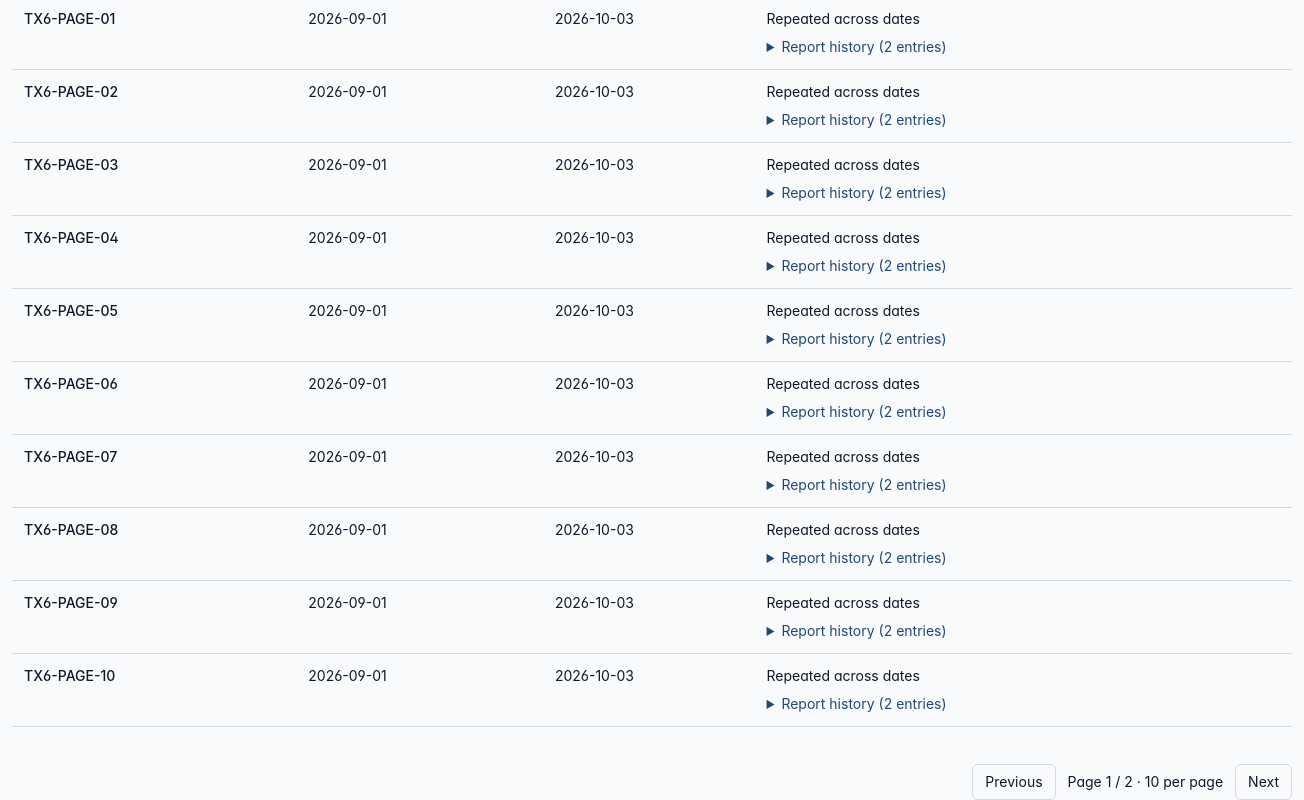
DailyReportAuditPanel › shows ten records per page and returns to page one when filters change
(page scrolled)
Expected: the text "TX6-PAGE-10" is shown, [12,654,296,726]
Expected: the text "TX6-PAGE-11" is not shown
Click the button "Next" at (1264,782), box [1235,764,1292,799]
(page scrolled)
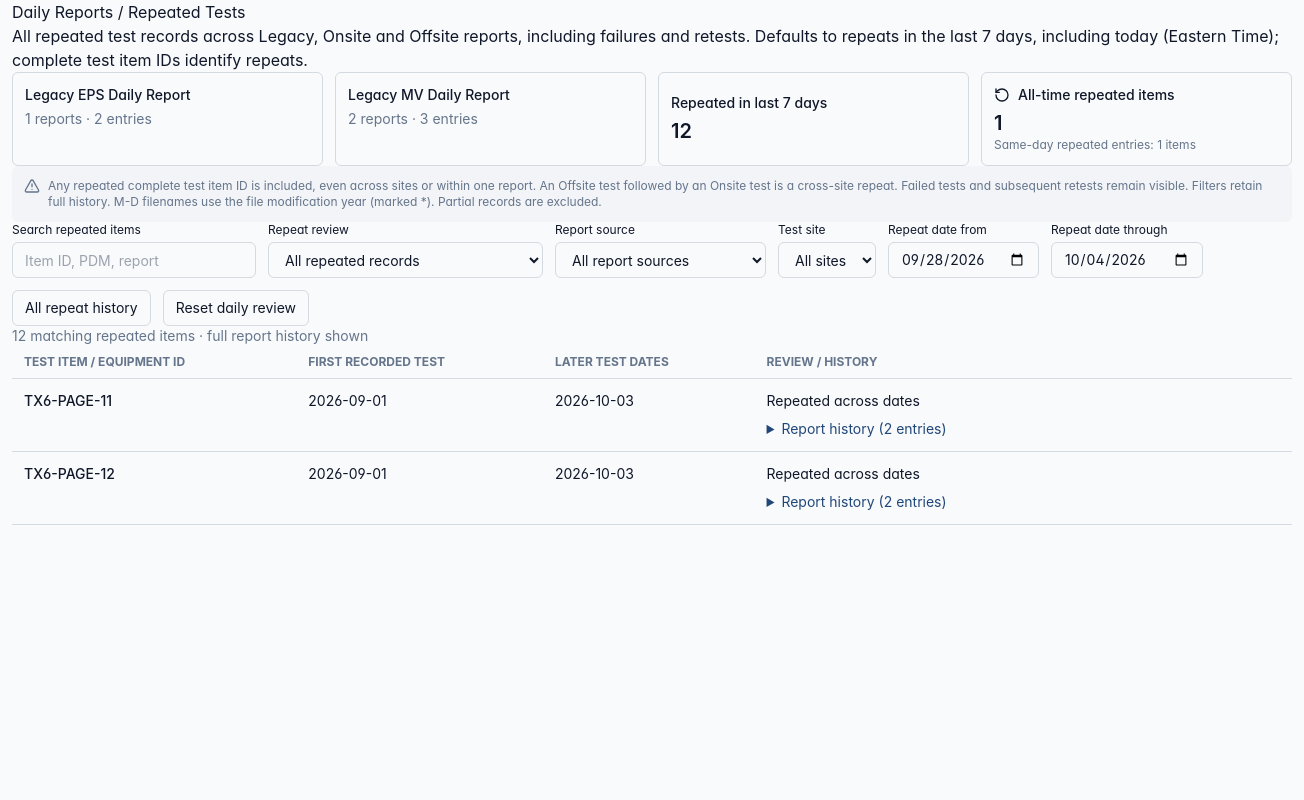
Expected: the number of rows is 3, [12,346,1292,378]; [12,378,1292,452]; [12,452,1292,524]
Now the text "TX6-PAGE-11" is shown, box [12,378,296,452]
Now the text "TX6-PAGE-12" is shown, box [12,452,296,524]
Type "TX6-PAGE-01" into the field labelled "Search repeated items" at (134,260), box [12,242,256,278]
(page scrolled)
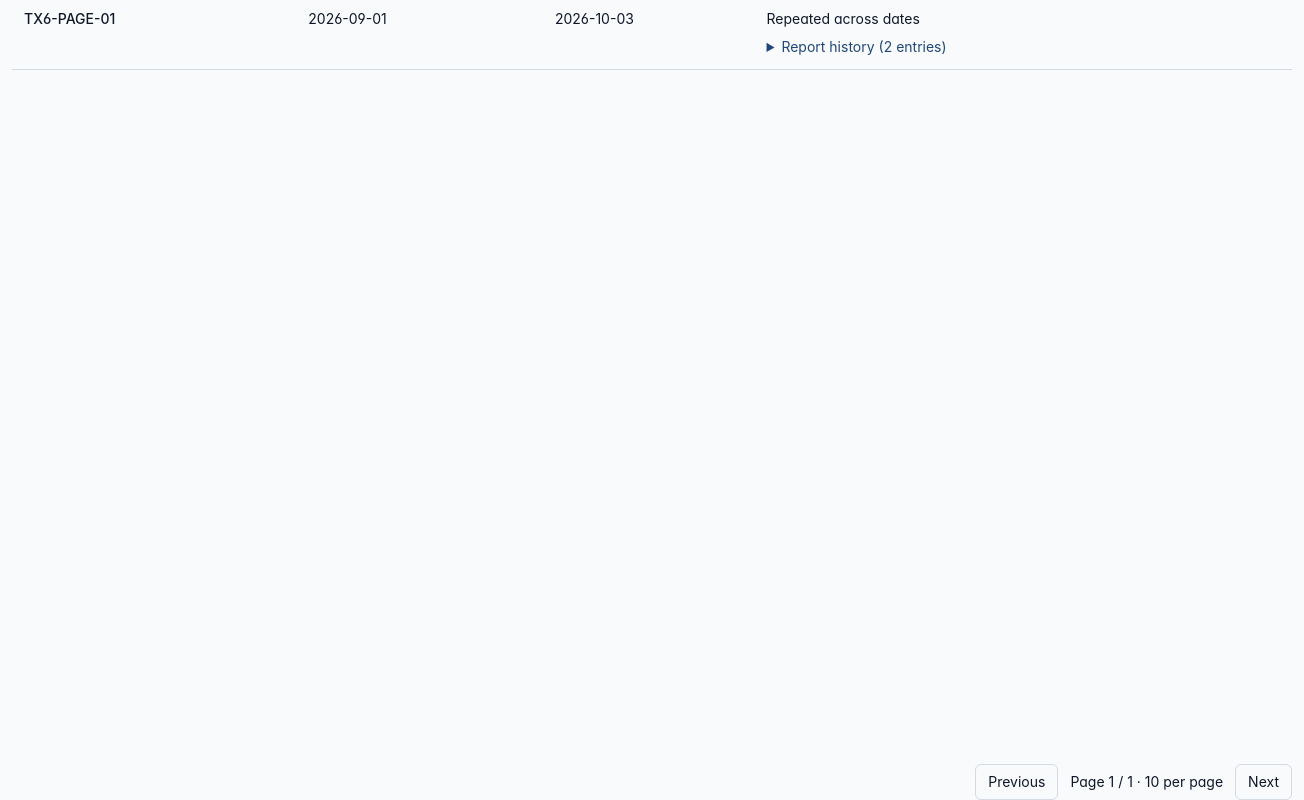
Now the text "Page 1 / 1 · 10 per page" is shown, box [1070,772,1223,792]
